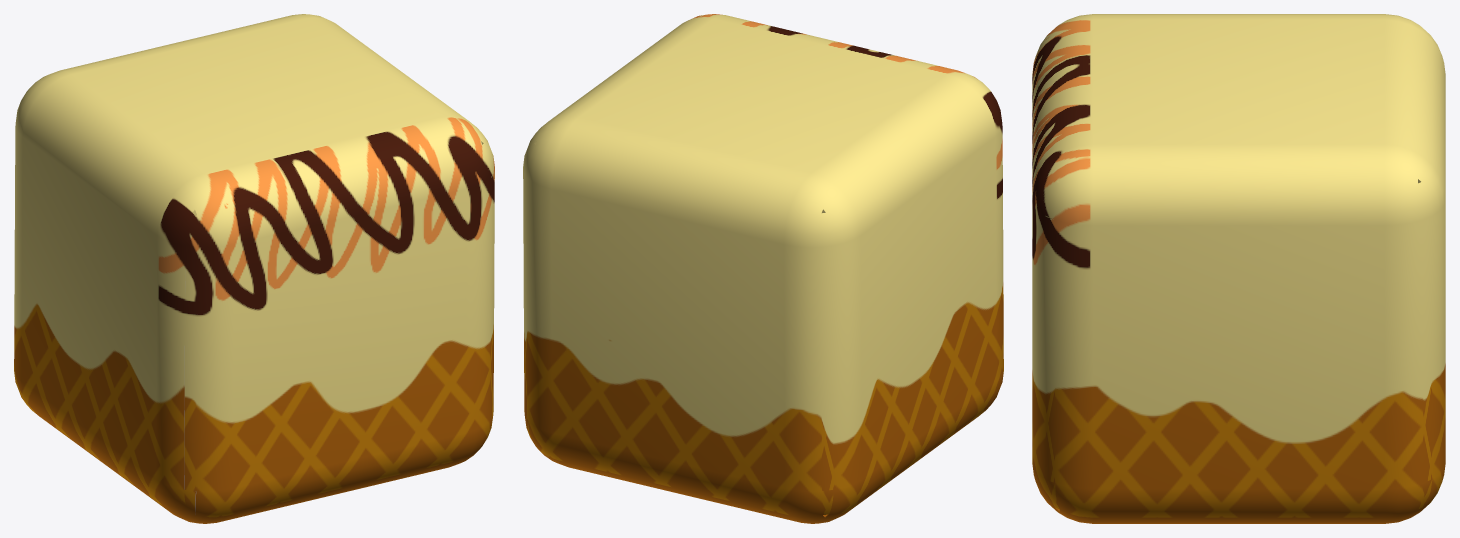
File: SPblock_IceCreamAilen.fbx
The picture shows the model from 3 angles, left to right: view 1: azimuth 30°, elevation 25°; view 2: azimuth 150°, elevation 25°; view 3: azimuth 270°, elevation 25°; orthographic projection. The views are drawn at different scales.
Parts seen in each view (by area): view 1: 큐브; view 2: 큐브; view 3: 큐브.
Part boxes in pixels (<box>): 큐브: <box>14,14,494,523</box>; 큐브: <box>523,14,1003,523</box>; 큐브: <box>1032,14,1445,523</box>.
Size of the model in its own units: 30513 by 30513 by 30398.
